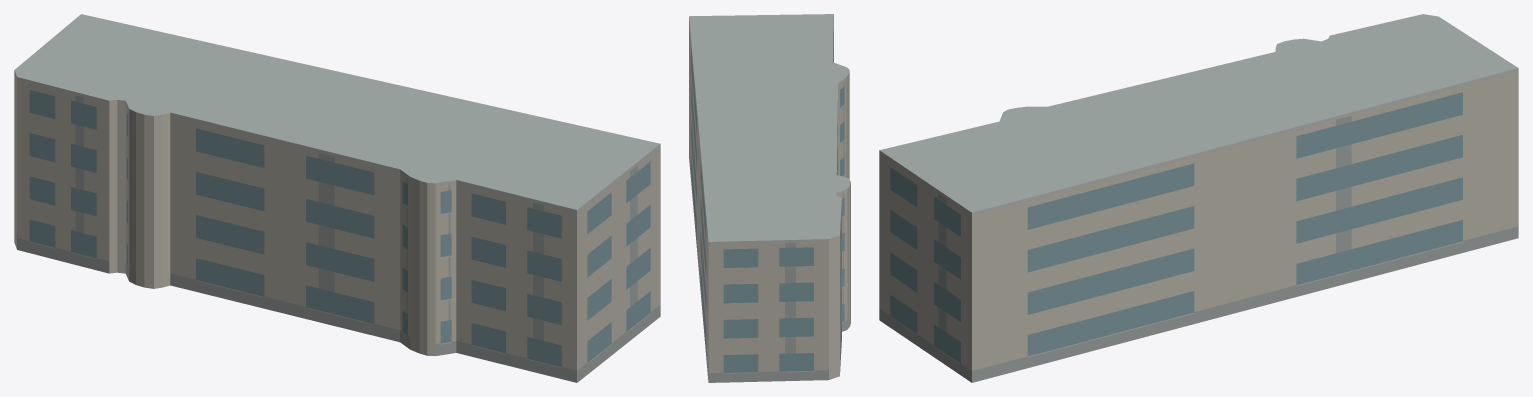
Rendered from residential-b7a82306-b00d-4677-80ad-b3b19d1441f3.glb.
3 renders of one model, left to right at view 1: azimuth 30°, elevation 25°; view 2: azimuth 150°, elevation 25°; view 3: azimuth 270°, elevation 25°, orthographic. The views are drawn at different scales.
Visible parts, largest first — view 1: residential-b7a82306-b00d-4677-80ad-b3b19d1441f3.tmp; view 2: residential-b7a82306-b00d-4677-80ad-b3b19d1441f3.tmp; view 3: residential-b7a82306-b00d-4677-80ad-b3b19d1441f3.tmp.
Boxes of the visible parts, box(x1,y1,x2,y2) form: residential-b7a82306-b00d-4677-80ad-b3b19d1441f3.tmp: box(14, 14, 660, 382); residential-b7a82306-b00d-4677-80ad-b3b19d1441f3.tmp: box(689, 14, 850, 382); residential-b7a82306-b00d-4677-80ad-b3b19d1441f3.tmp: box(879, 14, 1518, 382).
Size of the model in its own units: 30.59 by 12.2 by 41.55.
